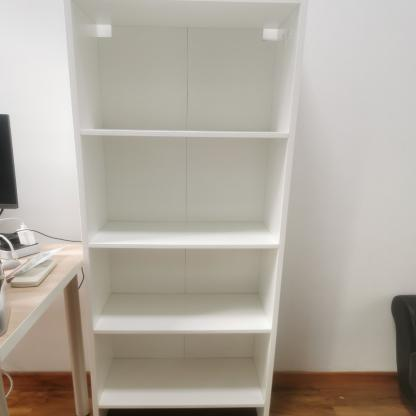lamp: (61, 0, 308, 416)
